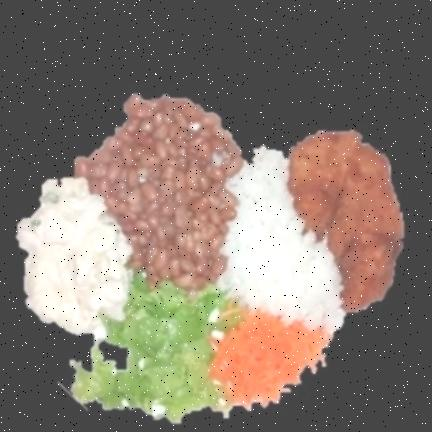beans: (75, 96, 243, 289)
carrot: (209, 311, 331, 407)
chicken: (288, 132, 403, 311)
rice: (218, 147, 342, 331)
salad: (72, 274, 238, 423)
